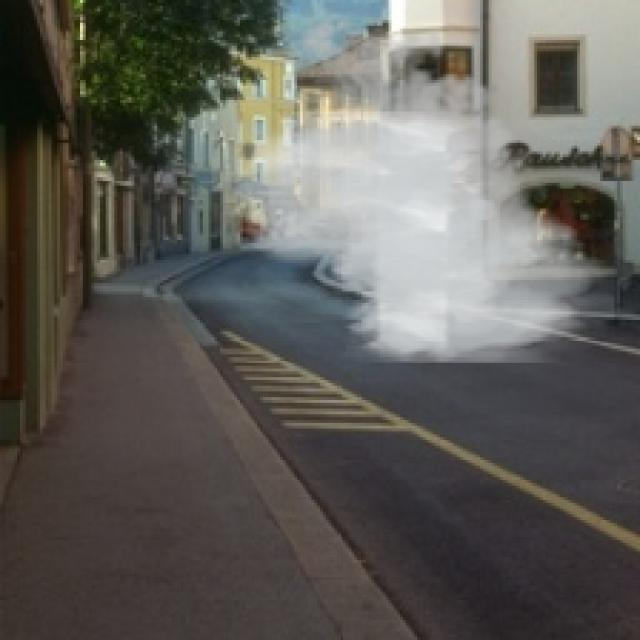Smoke: (212, 6, 614, 363)
